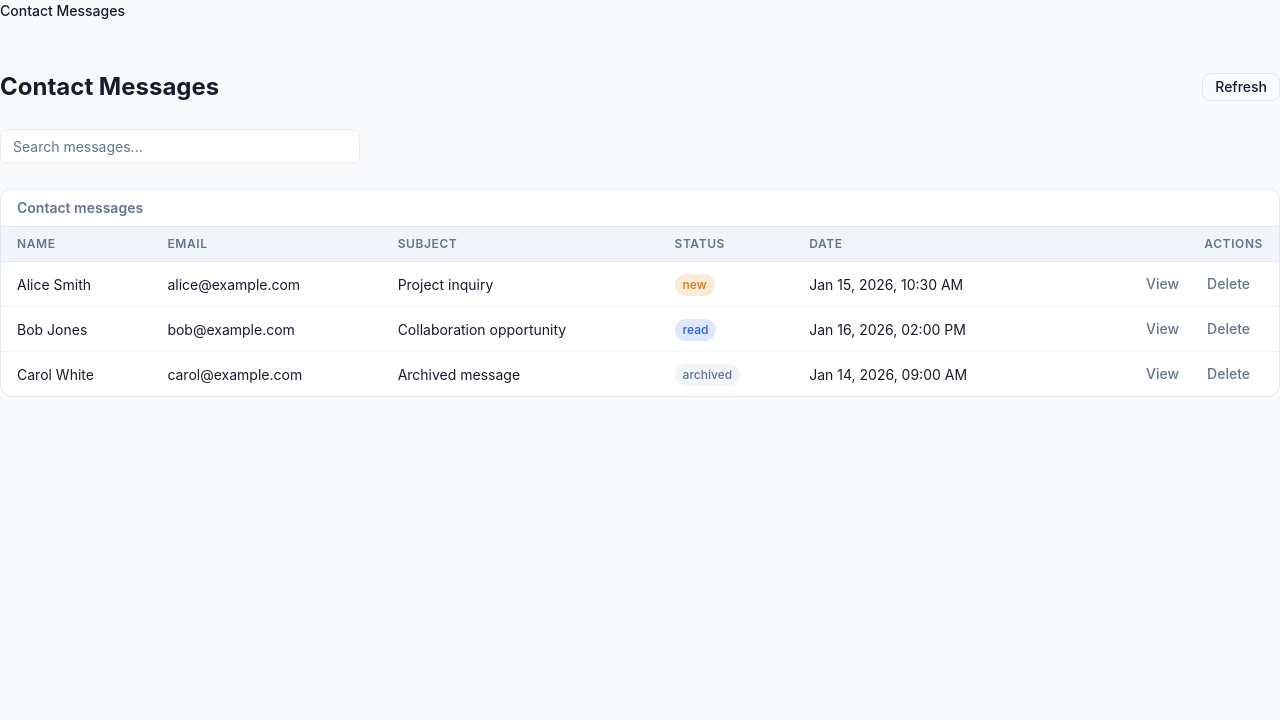
Test: ContactMessagesPage › opens the delete confirmation dialog when Delete is clicked
Click the button with aria-label "delete message from alice smith". click: (1229, 284)
box: [1194, 270, 1263, 298]
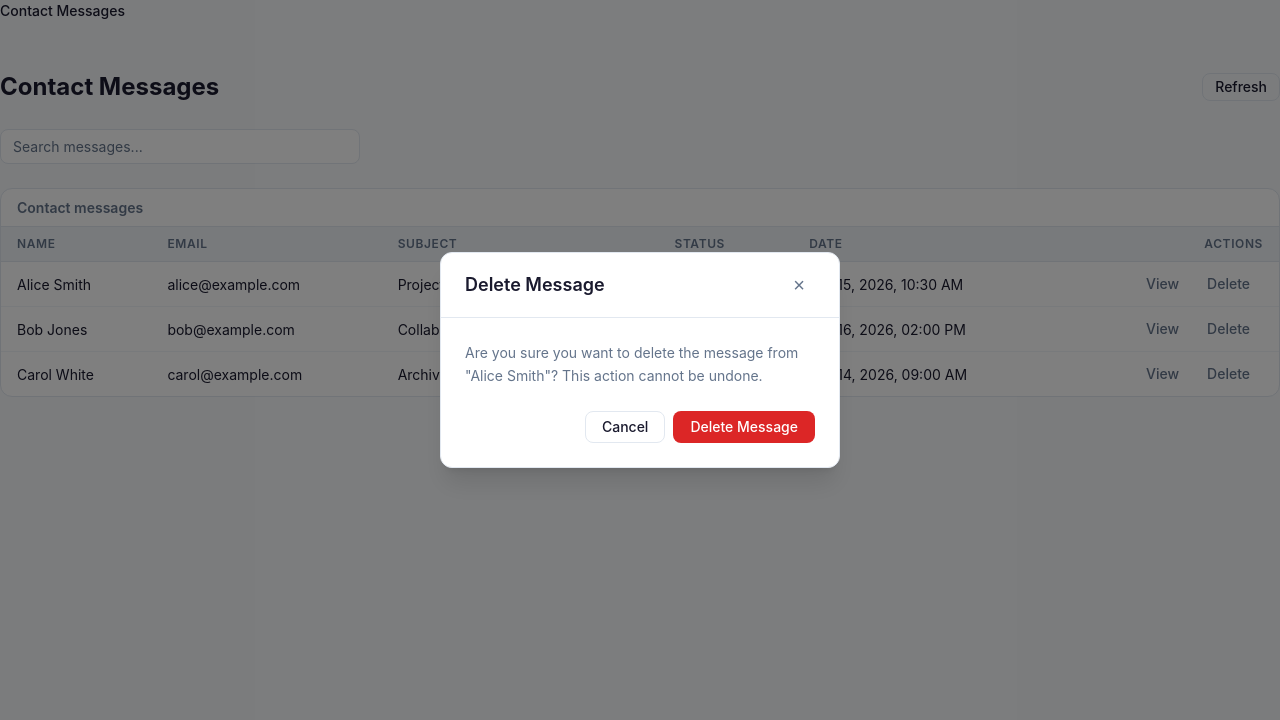
Check: the dialog "Delete Message" is shown, box [440, 252, 840, 468]
Check: the text "Are you sure you want to delete the message from" is shown, box [465, 344, 798, 384]
